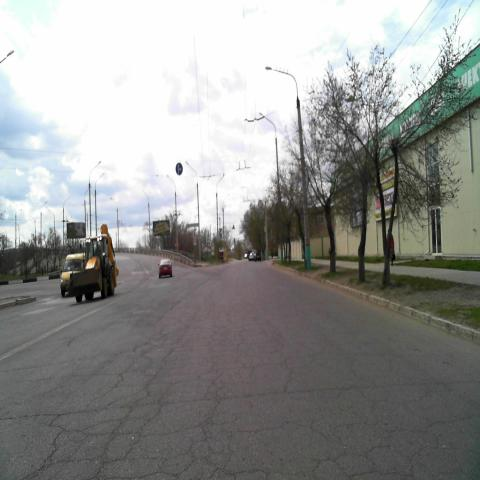4_1_4: (176, 162, 184, 176)
